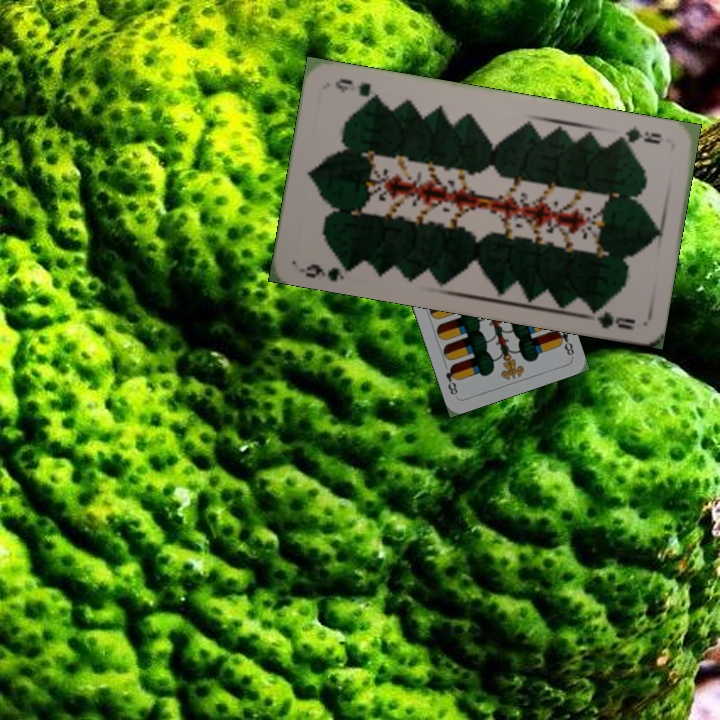E8: (551, 326, 577, 358)
G9: (301, 257, 355, 284), (612, 122, 664, 147)
